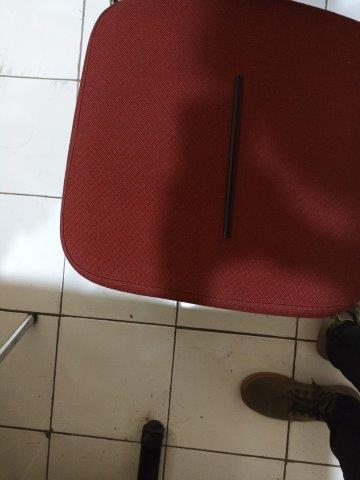sedotan: (224, 77, 240, 236)
